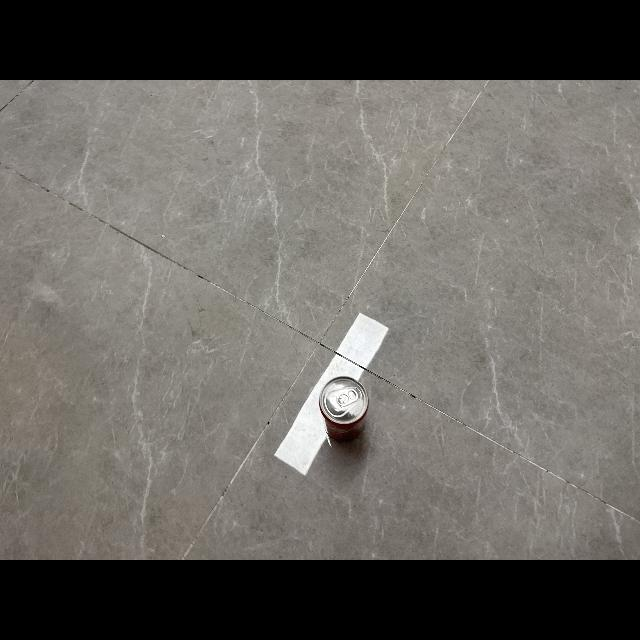Cola: (318, 374, 372, 448)
